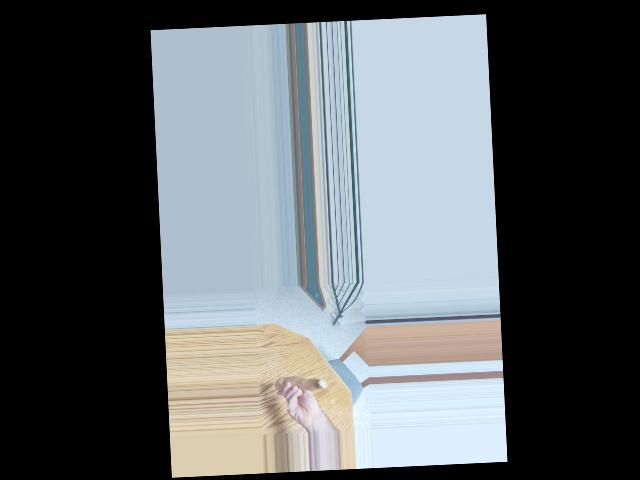sweet_potato: (276, 374, 328, 396)
